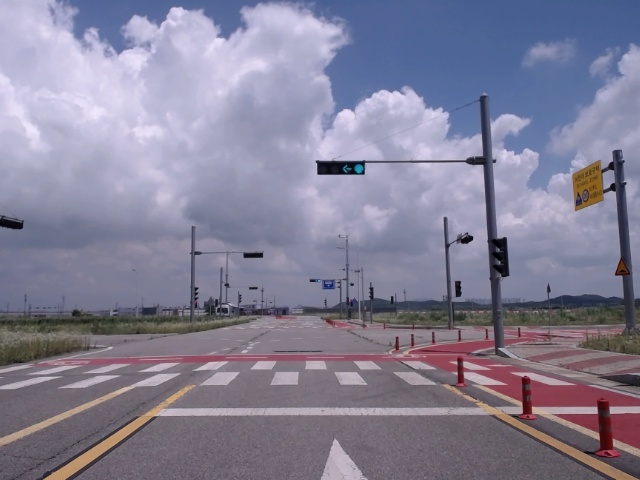all_green_4: (316, 160, 366, 176)
